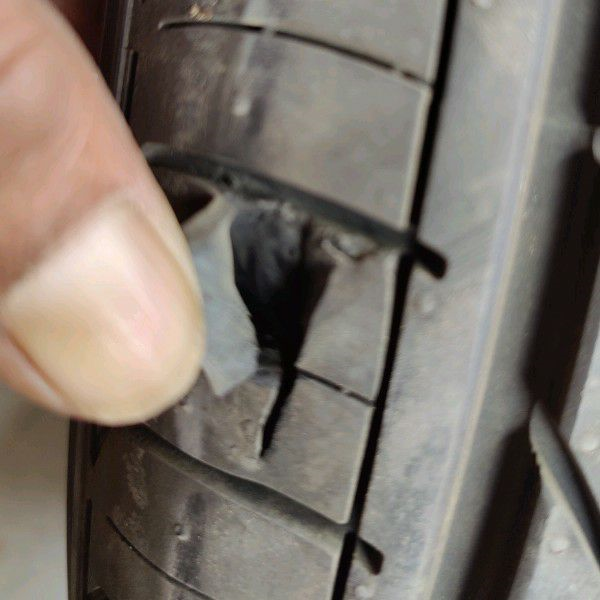tr: (182, 187, 356, 463)
